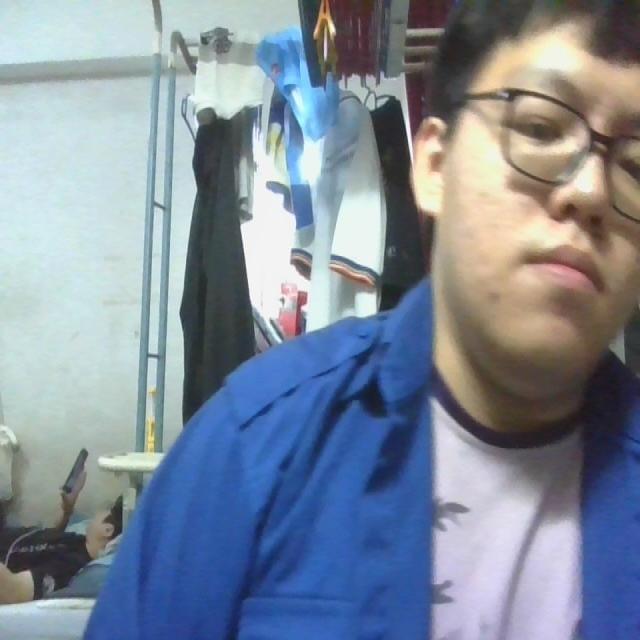person_with_labcoat: (75, 0, 639, 639)
